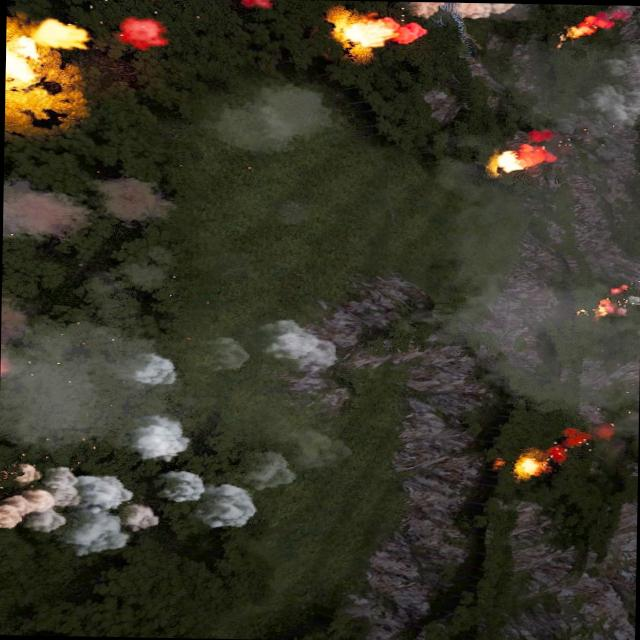fire: (322, 8, 432, 62), (11, 14, 88, 50), (492, 130, 556, 172), (114, 13, 164, 52), (557, 14, 613, 41), (588, 285, 626, 316), (514, 456, 542, 476)
smoke: (0, 463, 159, 556), (4, 178, 176, 240), (209, 84, 338, 150), (158, 467, 262, 529), (588, 27, 640, 126), (250, 320, 334, 370), (537, 421, 618, 461), (130, 414, 190, 462), (120, 355, 183, 386), (410, 2, 514, 20)
